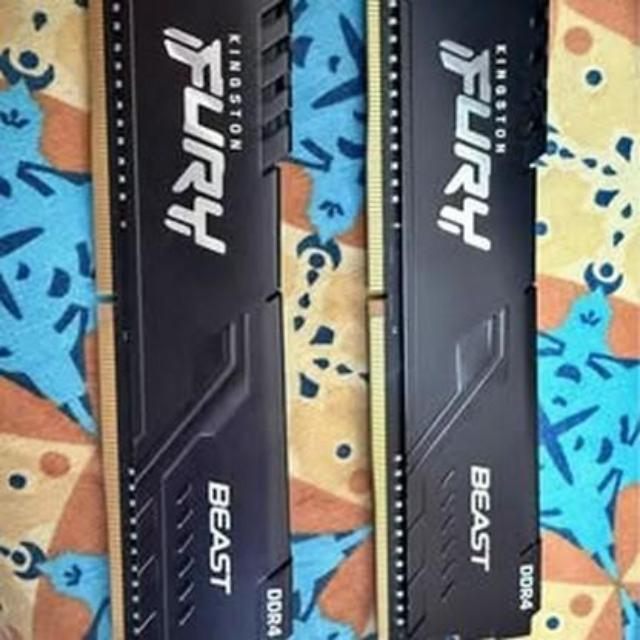RAM: (83, 0, 308, 640), (358, 0, 554, 640)
